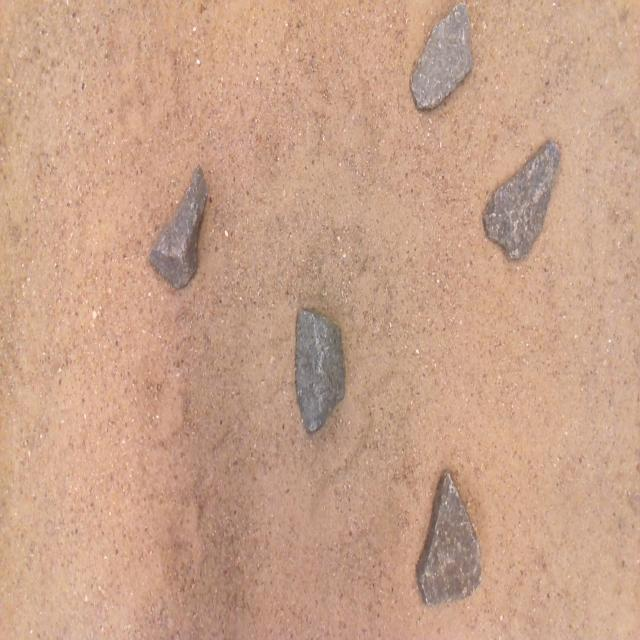rock: (483, 140, 559, 258), (417, 471, 480, 606), (149, 165, 207, 287), (411, 4, 473, 108), (296, 309, 345, 431)
